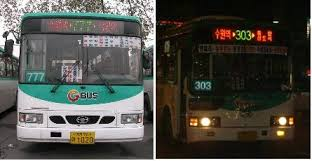bnum: (27, 72, 46, 82)
